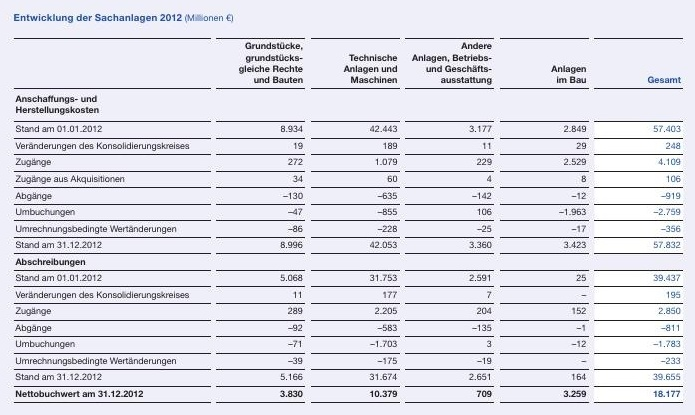table: (0, 0, 695, 415)
